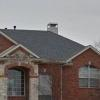Chimney: (43, 15, 68, 40)
